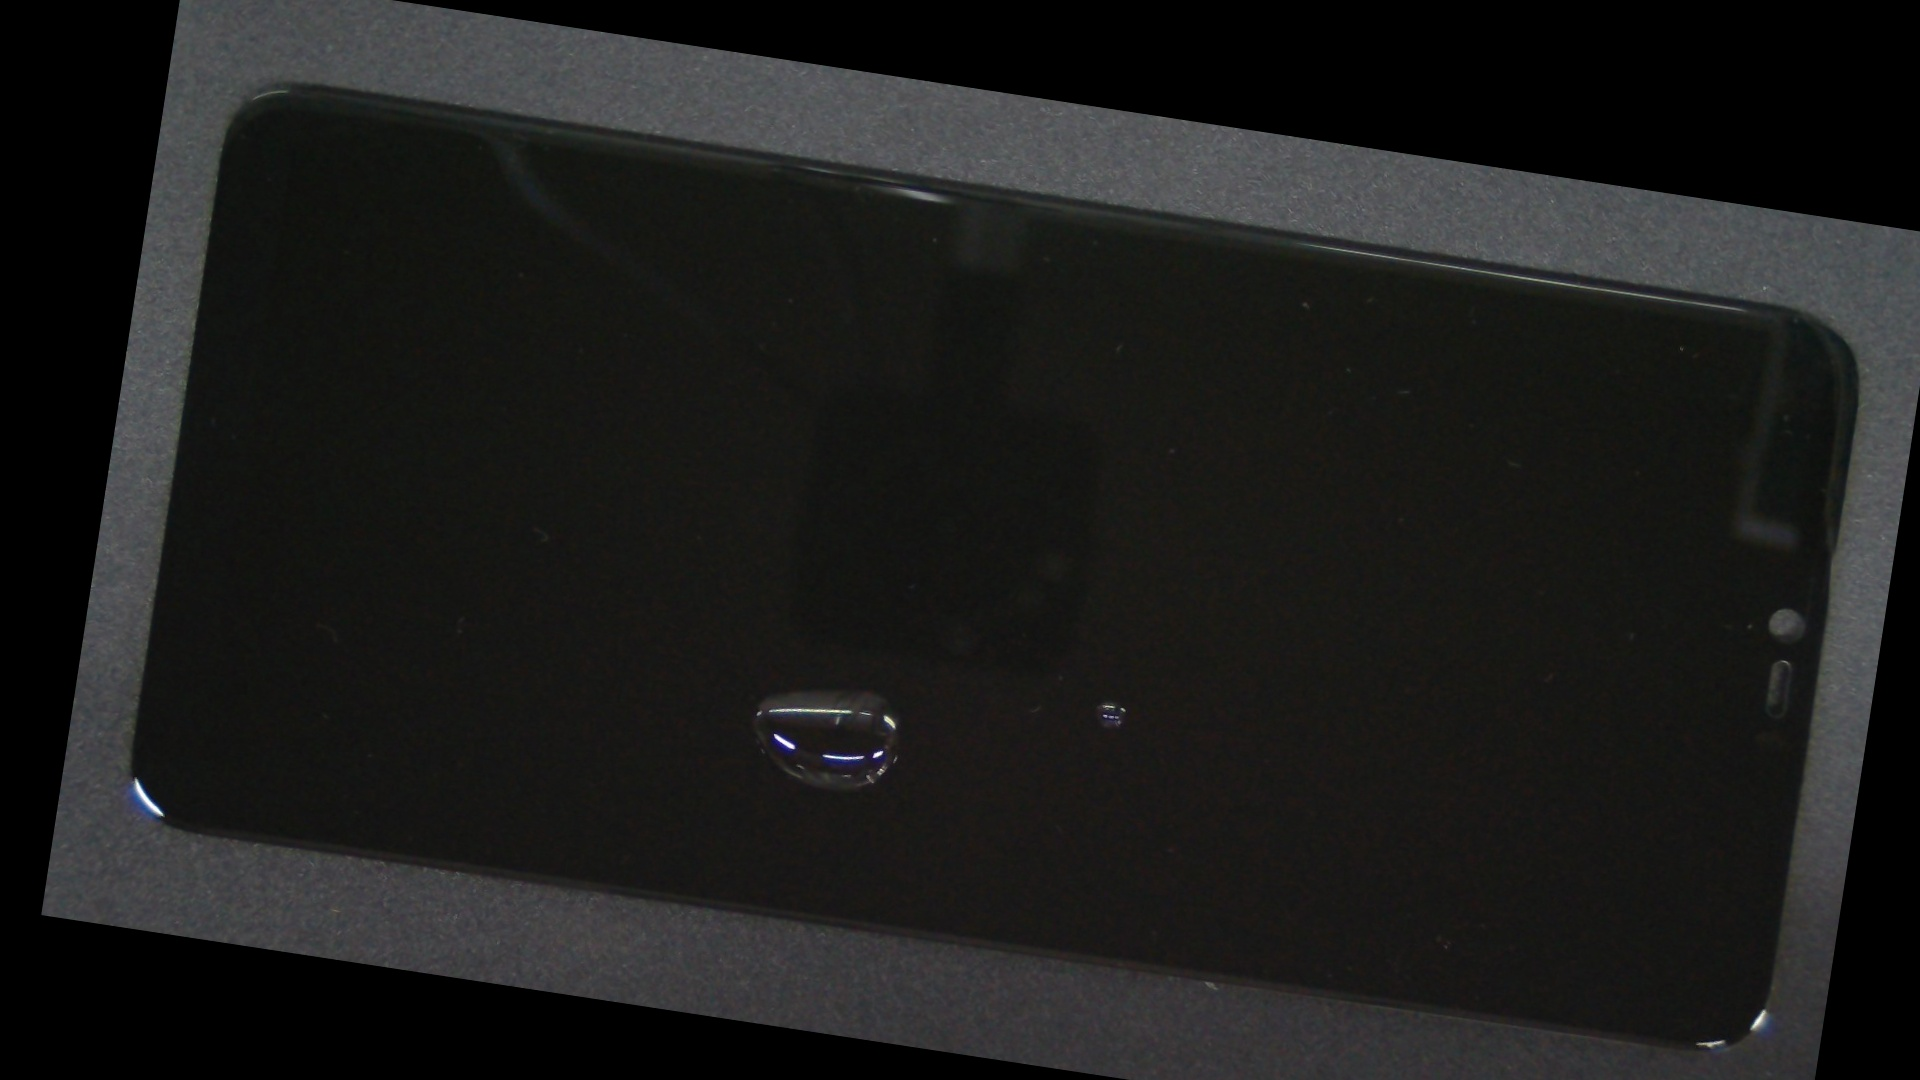oil: (562, 335, 1664, 1067), (435, 330, 1302, 1052)
